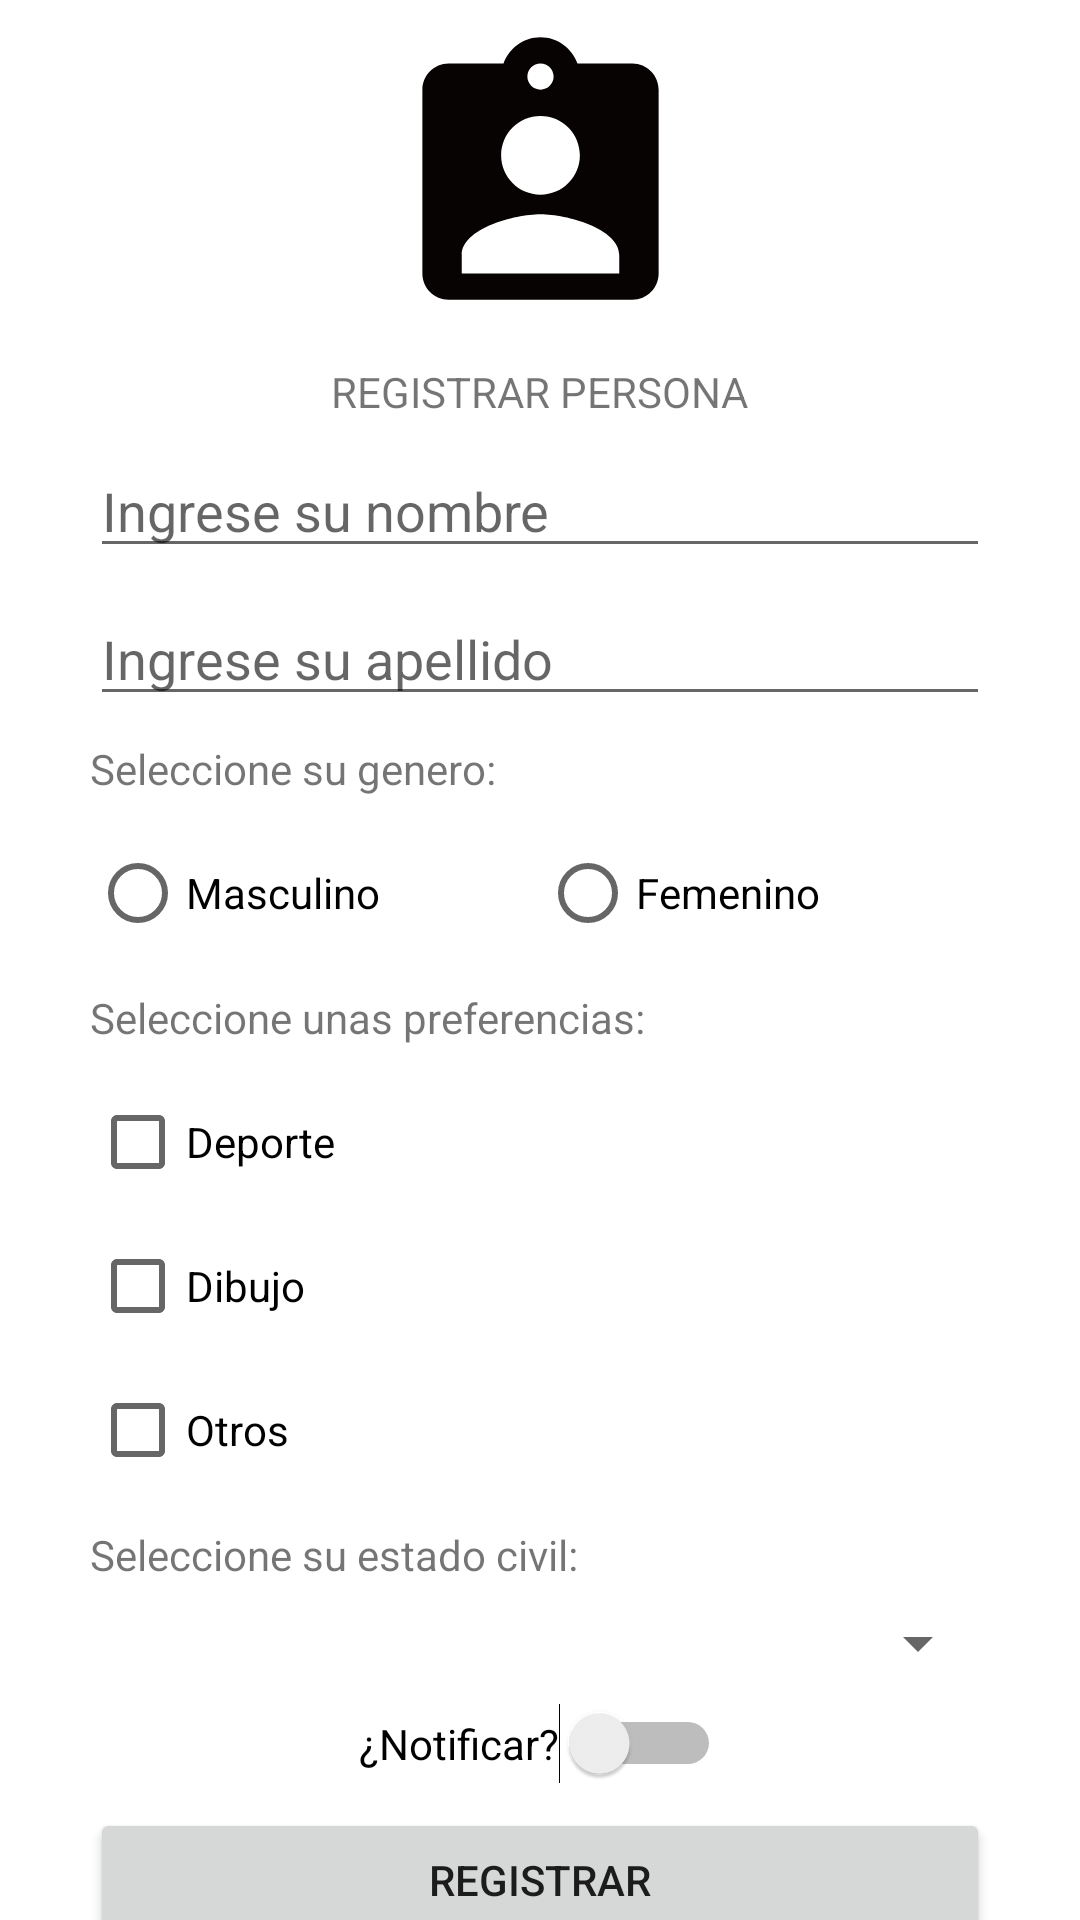

Icons on this 1080px×1920px Android screen, each with the point to tap as [x,y]:
assignment ind: [540,168]
